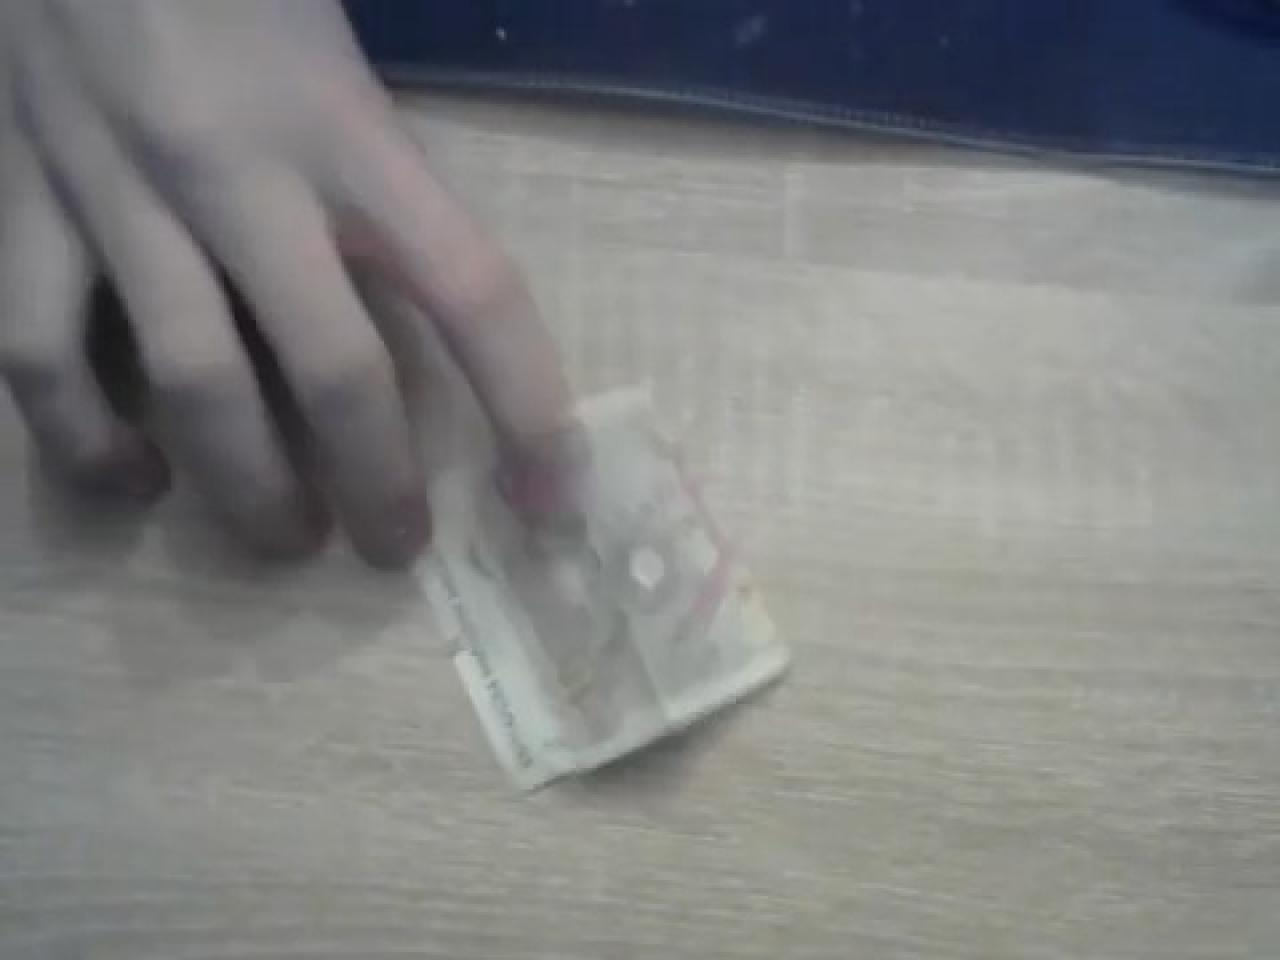10leva: (411, 376, 792, 792)
